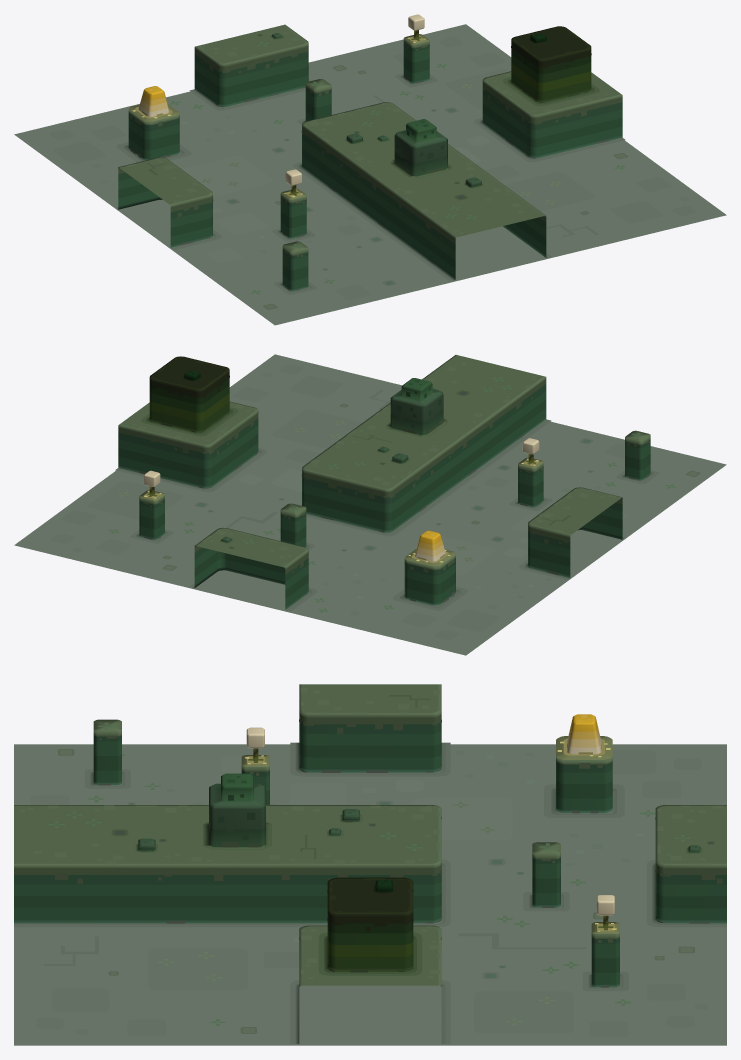
File: C_cave2_07.fbx
The picture shows the model from 3 angles, top to bottom: view 1: azimuth 30°, elevation 25°; view 2: azimuth 150°, elevation 25°; view 3: azimuth 270°, elevation 25°; orthographic projection. The views are drawn at different scales.
Parts seen in each view (by area): view 1: C_cave2_07; view 2: C_cave2_07; view 3: C_cave2_07.
Boxes of the visible parts, x1,y1,x2,y2 form: C_cave2_07: [14, 14, 726, 325]; C_cave2_07: [14, 354, 726, 655]; C_cave2_07: [14, 684, 726, 1045].
Size of the model in its own units: 50 by 9.88 by 50.
